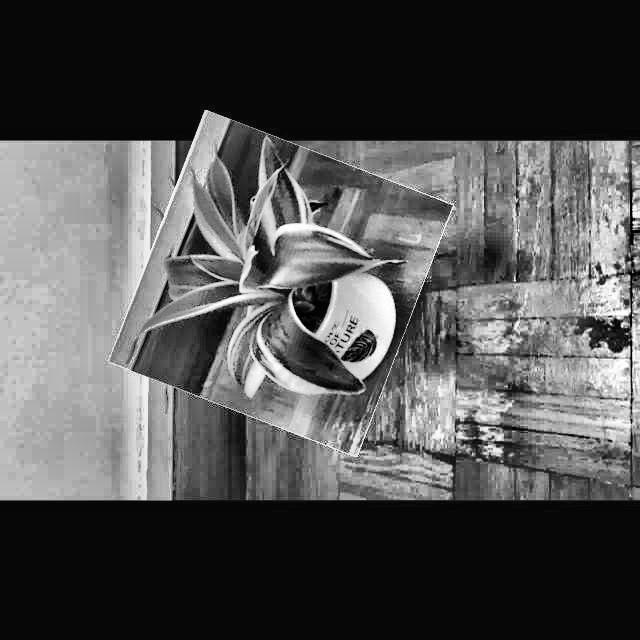plants: (128, 128, 434, 438)
